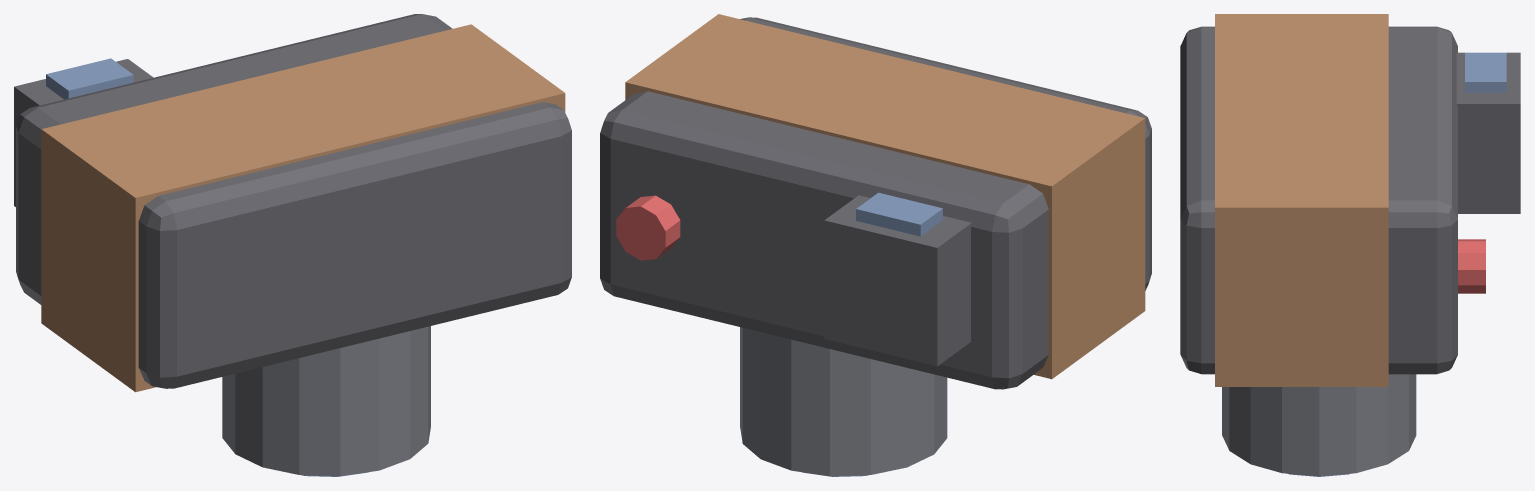
Rendered from camera_held.gltf.
3 views of the same model, side by side, from view 1: azimuth 30°, elevation 25°; view 2: azimuth 150°, elevation 25°; view 3: azimuth 270°, elevation 25° (orthographic). The views are drawn at different scales.
Visible parts, largest first — view 1: album_camera_held; view 2: album_camera_held; view 3: album_camera_held.
Part boxes in pixels (left/top/right/bottom): album_camera_held: left=14, top=14, right=571, bottom=476; album_camera_held: left=600, top=14, right=1151, bottom=476; album_camera_held: left=1180, top=14, right=1520, bottom=476.
Size of the model in its own units: 0.132 by 0.1015 by 0.098.
